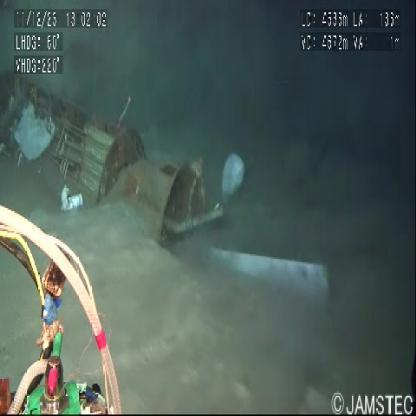Rác: (16, 106, 52, 162), (222, 156, 246, 199)
